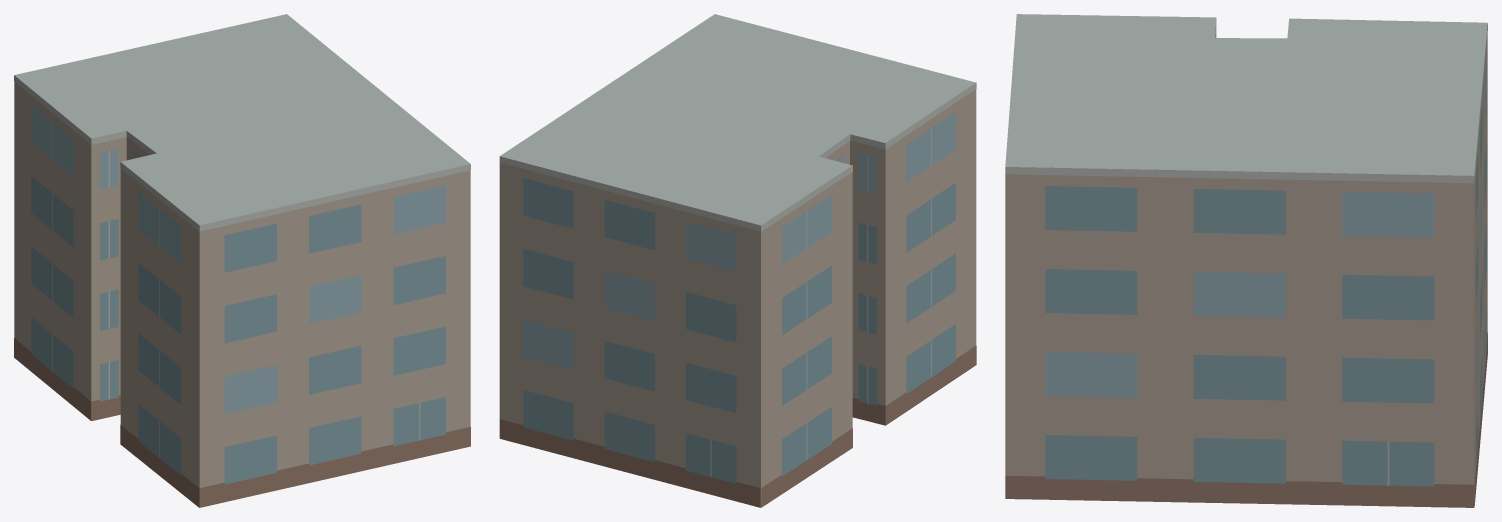
The model's file is survey-upis-32703096.glb.
3 renders of one model, left to right at view 1: azimuth 30°, elevation 25°; view 2: azimuth 150°, elevation 25°; view 3: azimuth 270°, elevation 25°, orthographic. The views are drawn at different scales.
Visible parts, largest first — view 1: survey-upis-32703096.tmp; view 2: survey-upis-32703096.tmp; view 3: survey-upis-32703096.tmp.
Boxes of the visible parts, box(x1,y1,x2,y2) form: survey-upis-32703096.tmp: box(14, 14, 470, 507); survey-upis-32703096.tmp: box(499, 14, 976, 507); survey-upis-32703096.tmp: box(1005, 14, 1487, 507).
Bounding box in the file's own units: 11.41 × 10.9 × 14.37.
